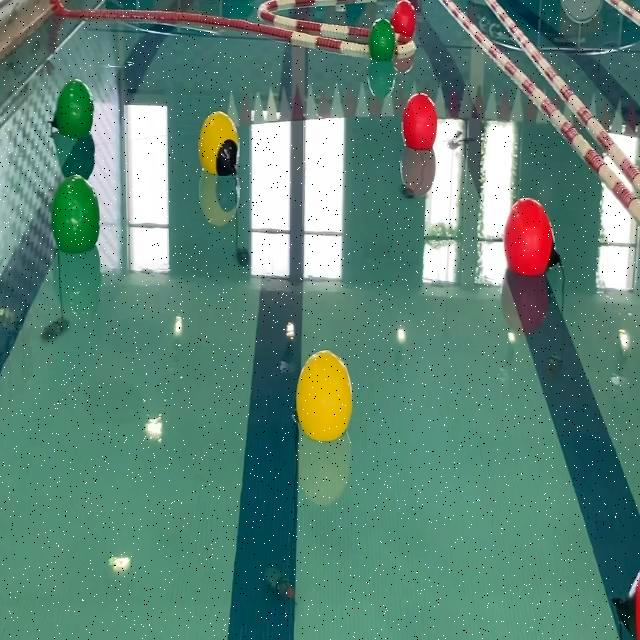buoy: (294, 350, 352, 444), (503, 196, 562, 277), (604, 521, 640, 640), (50, 175, 100, 257), (200, 108, 240, 180), (51, 80, 94, 142), (404, 92, 438, 154), (368, 18, 397, 66), (391, 0, 417, 40)
